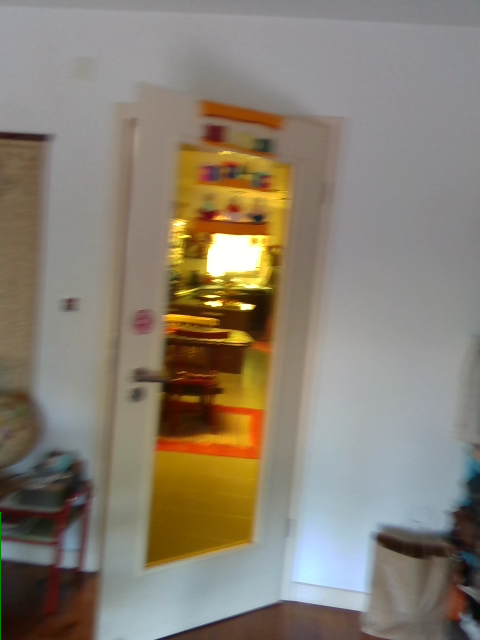semi: (83, 81, 345, 639)
